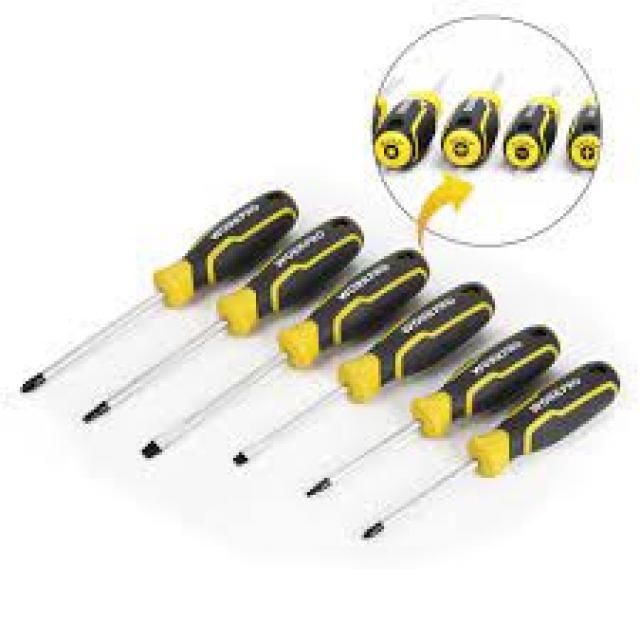screwdriver: (138, 246, 431, 462), (79, 213, 368, 427), (17, 186, 299, 397), (230, 277, 498, 468), (358, 358, 623, 544), (300, 323, 565, 502), (370, 63, 450, 174), (440, 57, 508, 171), (509, 49, 566, 172)
